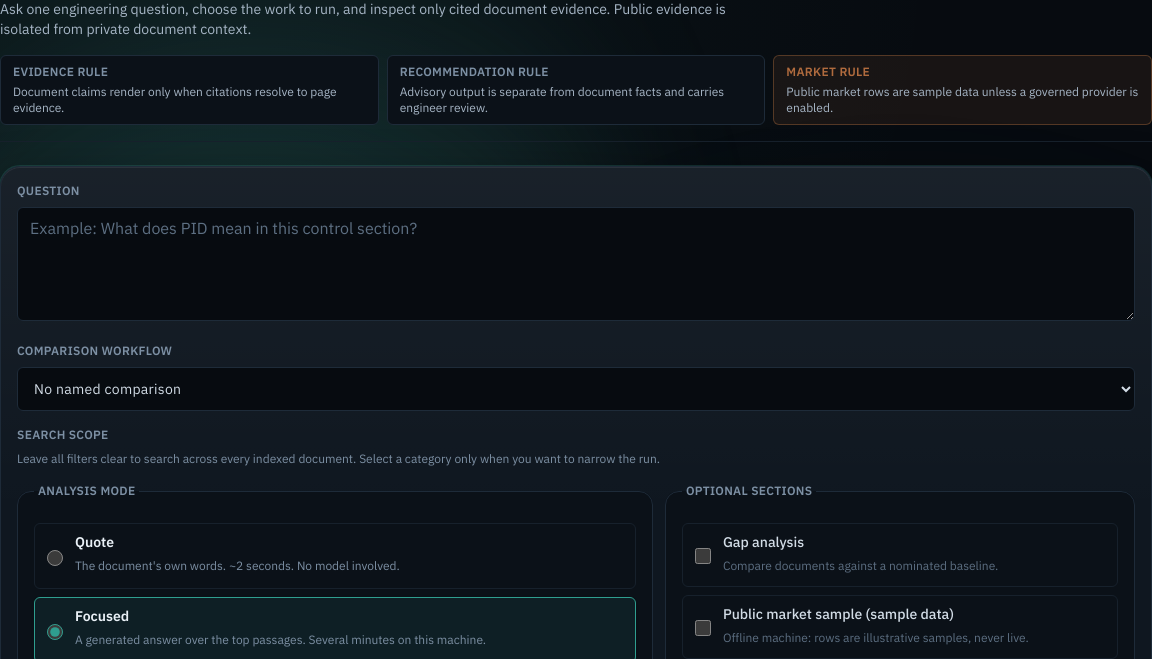
Test case: Quote mode does not switch Gap analysis on › shows Quoted evidence after a Quote run and no Gap analysis section
Click the radio button labelled "Quote": (55, 558) [47,536,63,580]
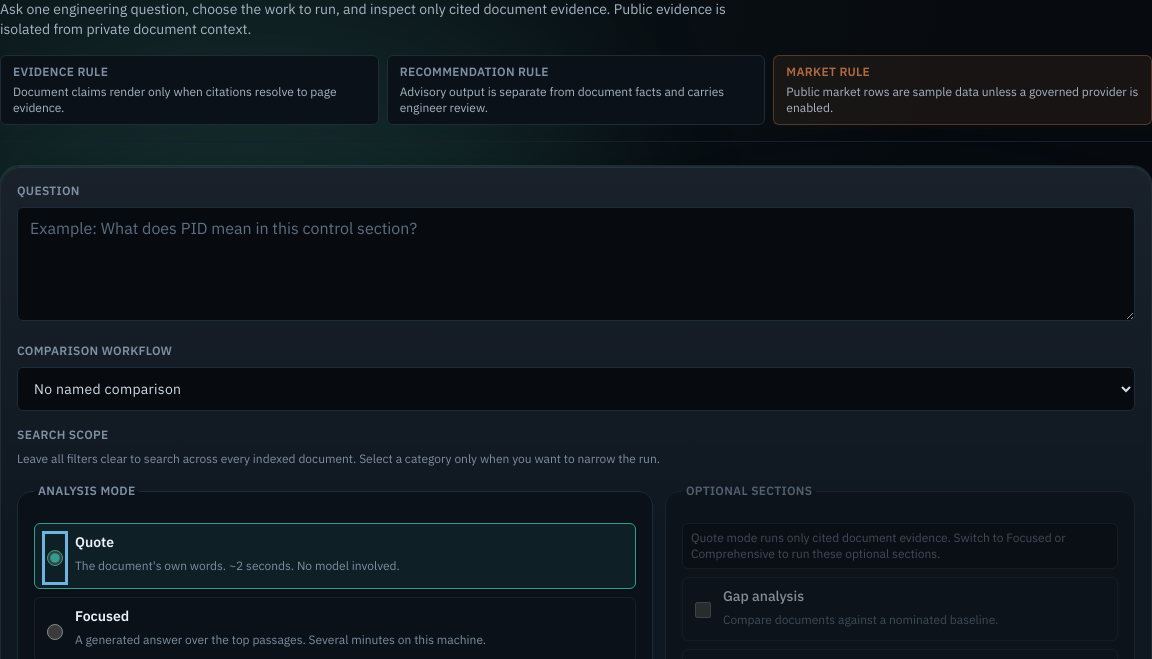
In the text box labelled "Question": (576, 264) [17,207,1135,321], type "what is the pressure floor"
(page scrolled)
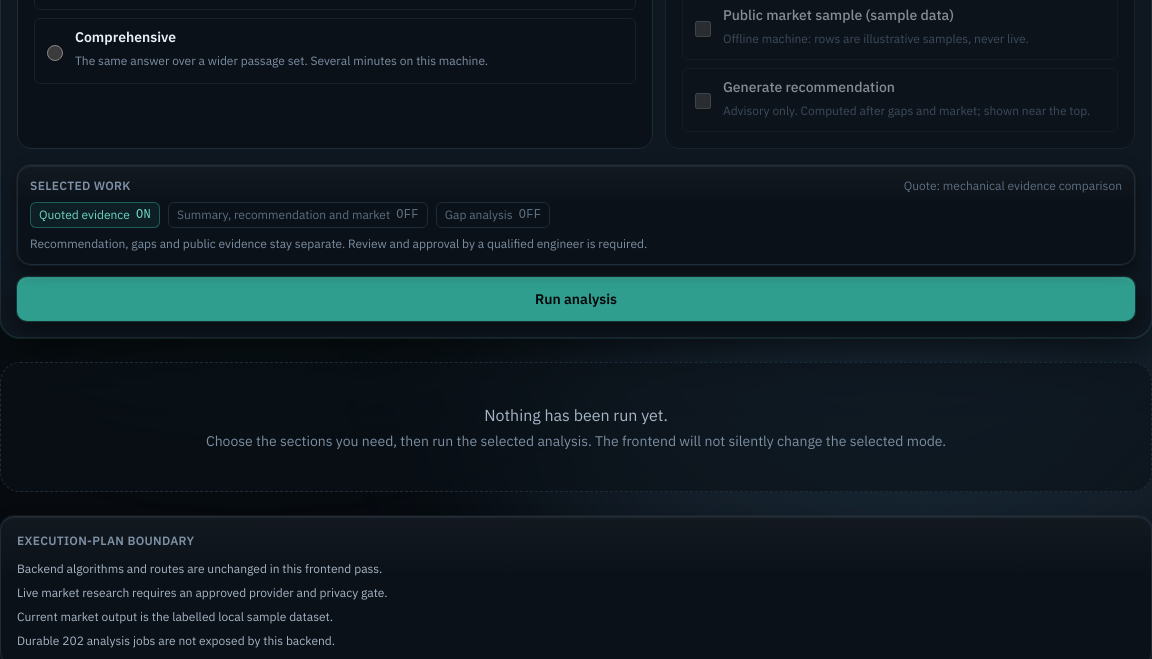
Click the button "Run analysis": (576, 299) [17,277,1135,321]
(page scrolled)
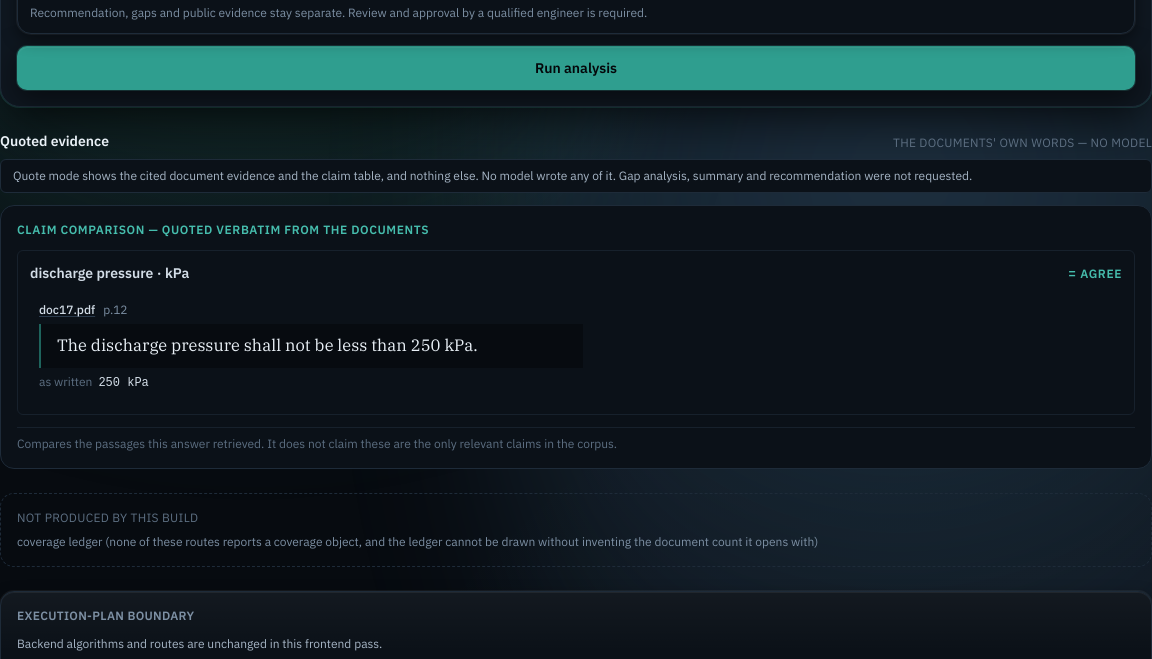
Expected: the element "Quoted evidence" is shown, [0,131,1151,469]
